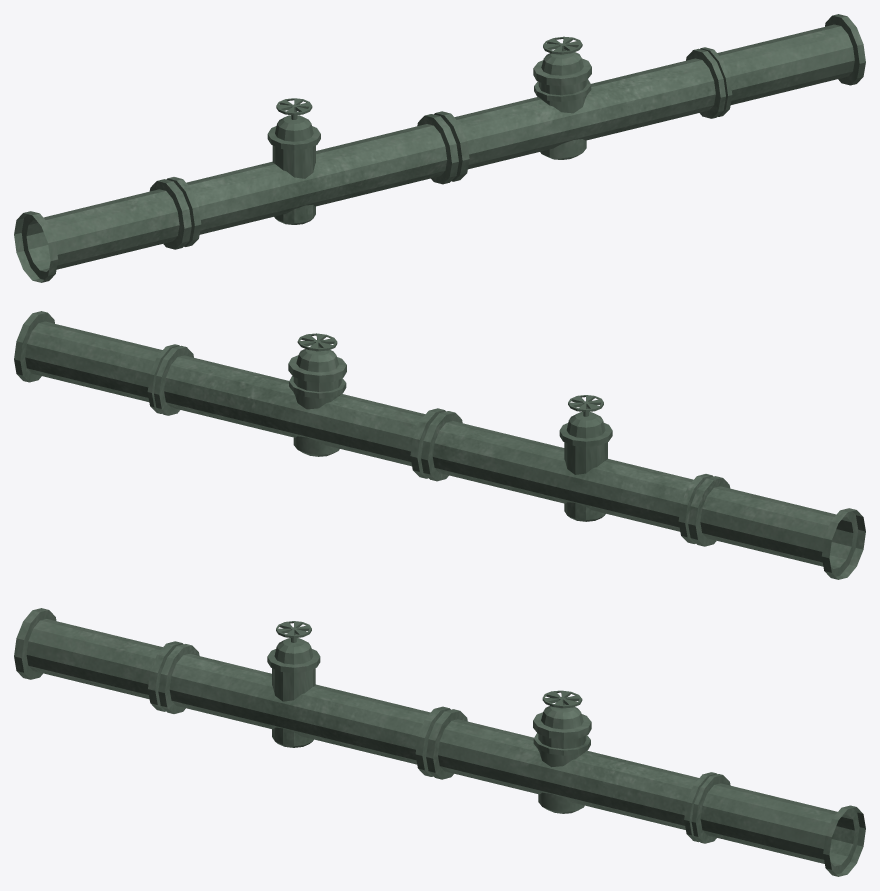
Rendered from trubadovga.fbx.
The picture shows the model from 3 angles, top to bottom: view 1: azimuth 30°, elevation 25°; view 2: azimuth 150°, elevation 25°; view 3: azimuth 330°, elevation 25°; orthographic projection.
Visible parts, largest first — view 1: truba1; view 2: truba1; view 3: truba1.
Part boxes in pixels (x1,y1,x2,y2): truba1: (14, 14, 865, 282); truba1: (14, 311, 865, 579); truba1: (14, 608, 865, 876).
Bounding box in the file's own units: 96.74 × 13.15 × 7.51.
1 material, 1 textured.
